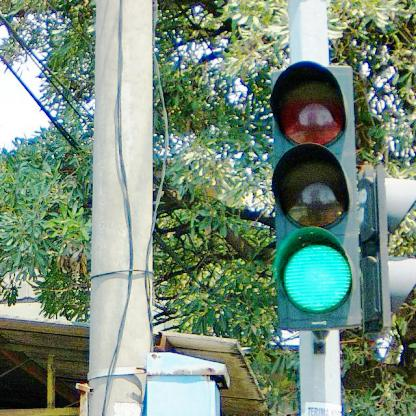Traffic Light -Green-: (276, 62, 360, 329)
